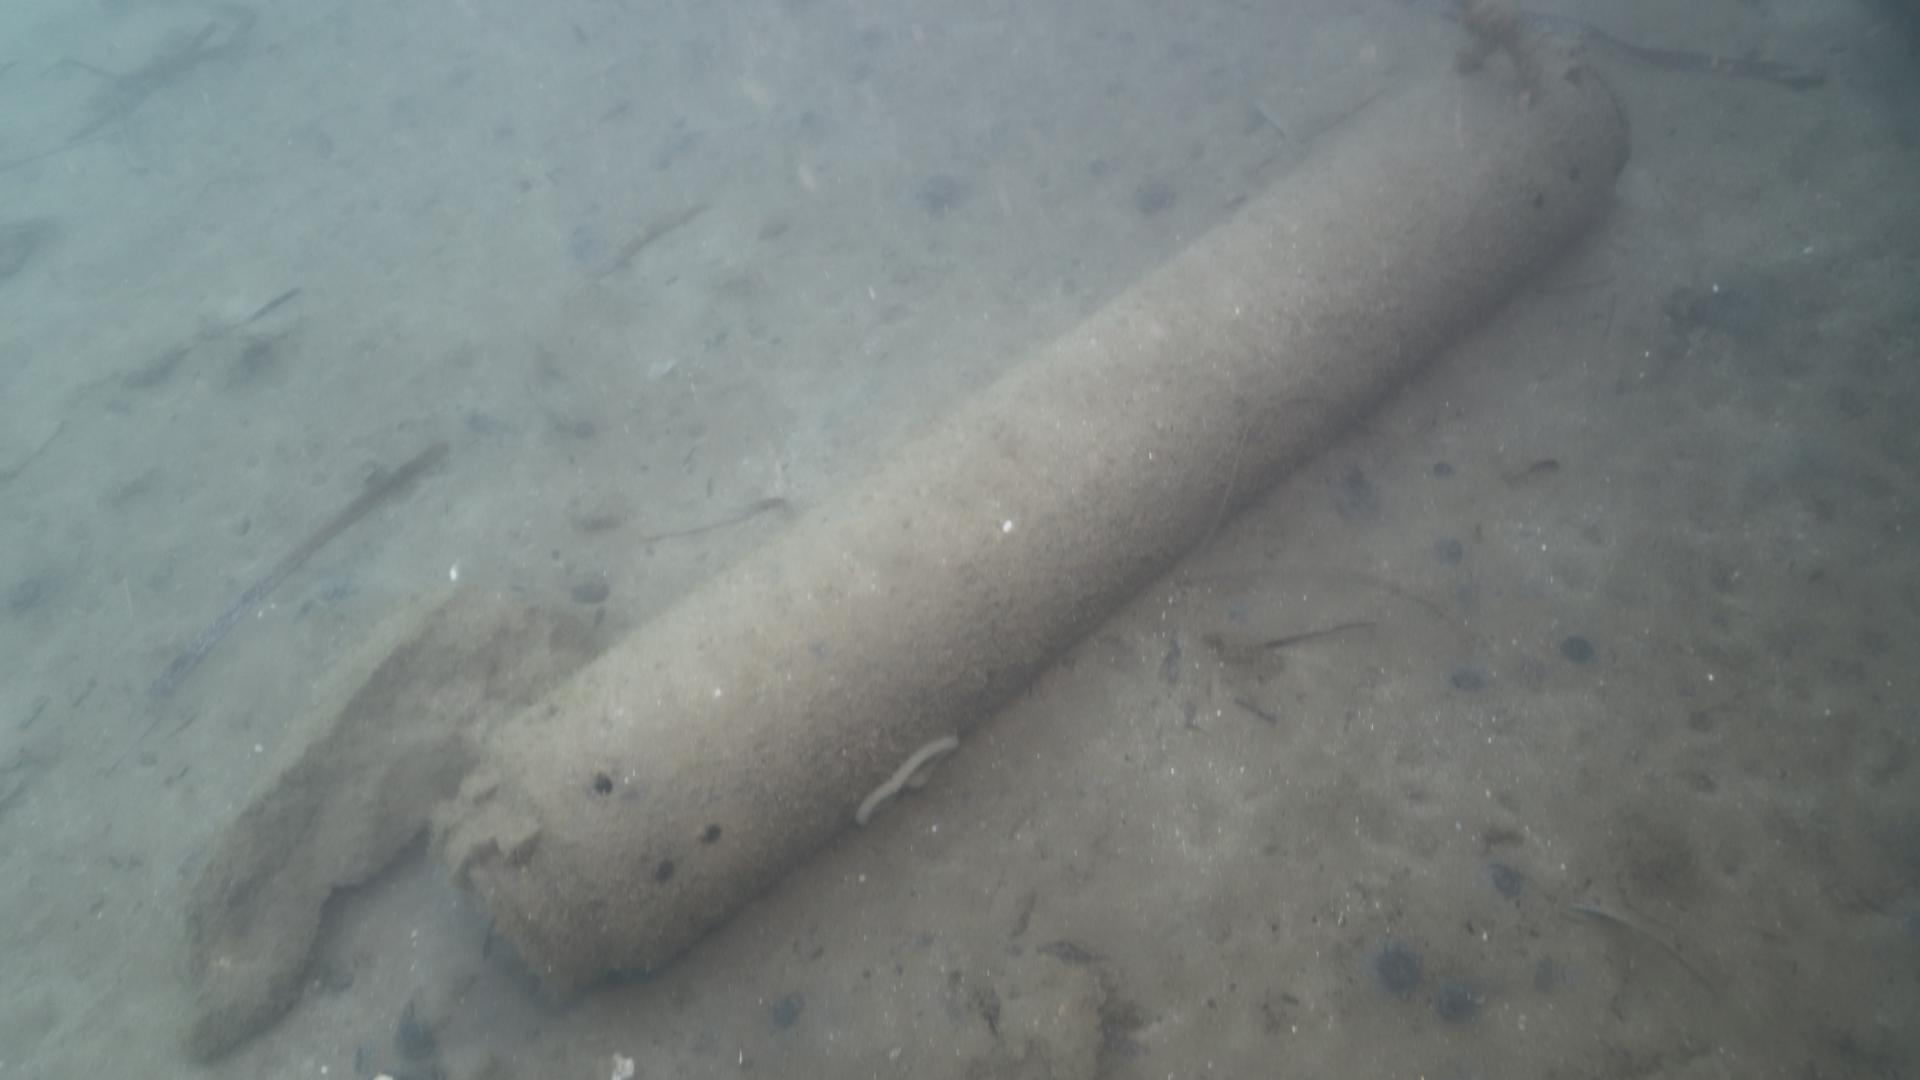eel fish trap: (429, 40, 1634, 1000)
